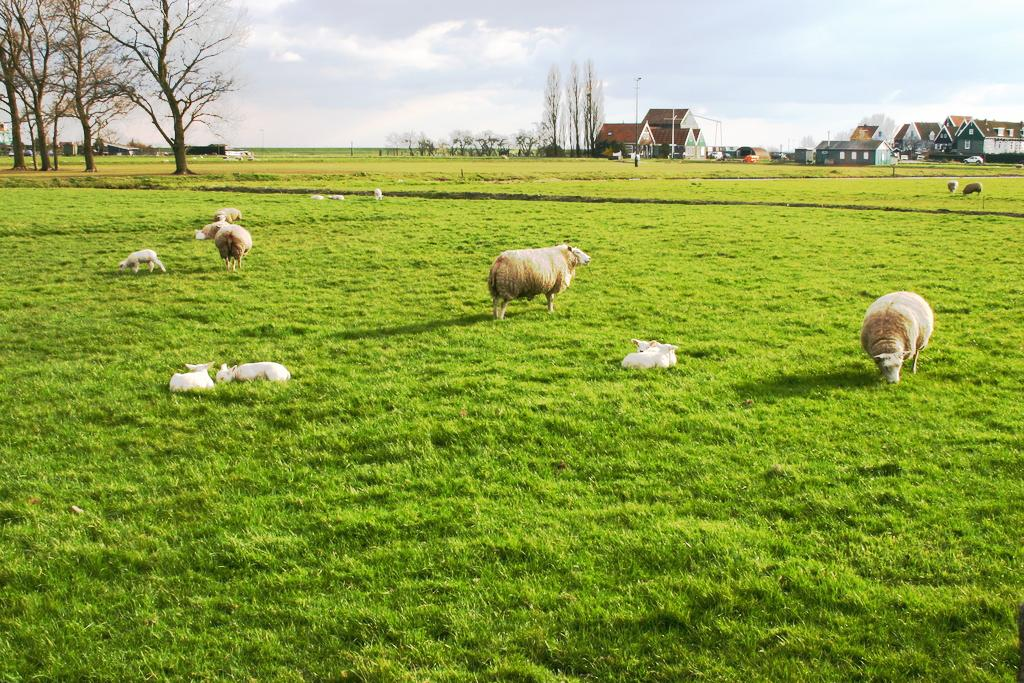Sheep: (479, 235, 598, 321), (858, 287, 937, 382), (212, 358, 292, 389), (212, 222, 252, 274), (115, 243, 169, 278), (622, 338, 680, 370), (630, 334, 684, 367), (168, 360, 218, 392), (189, 217, 231, 244), (212, 203, 250, 229), (328, 187, 350, 208), (362, 185, 386, 204), (960, 183, 991, 196), (304, 187, 324, 206), (942, 179, 960, 196)
